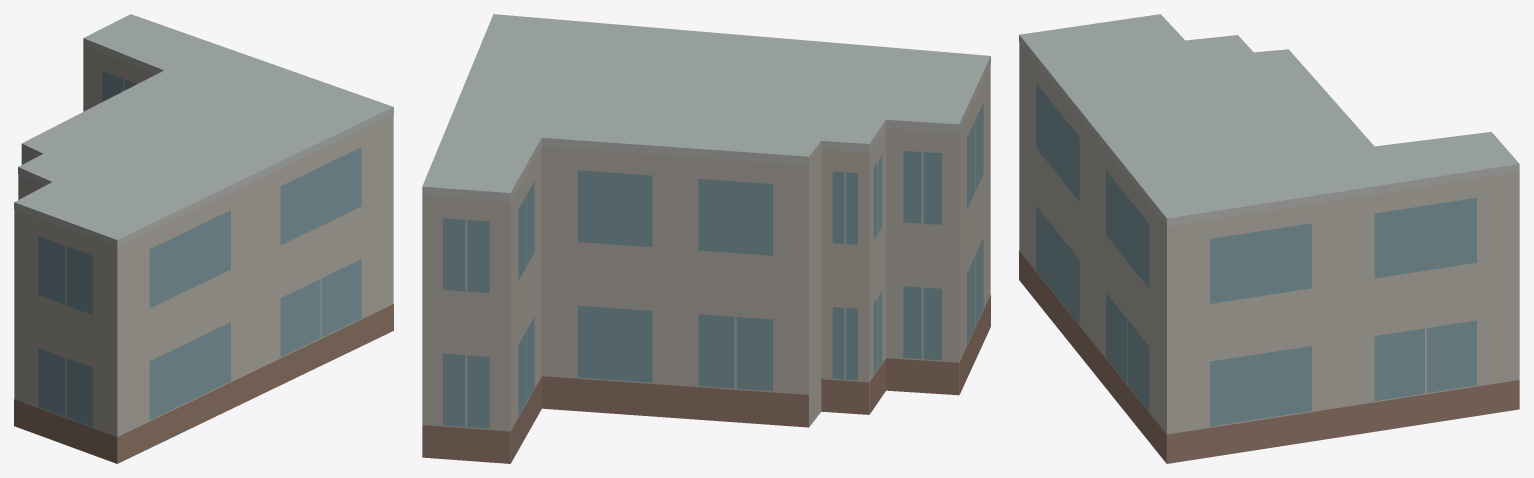
The model's file is survey-upis-33002088.glb.
3 views of the same model, side by side, from view 1: azimuth 30°, elevation 25°; view 2: azimuth 150°, elevation 25°; view 3: azimuth 270°, elevation 25° (orthographic). The views are drawn at different scales.
Parts seen in each view (by area): view 1: survey-upis-33002088.tmp; view 2: survey-upis-33002088.tmp; view 3: survey-upis-33002088.tmp.
Part boxes in pixels (box(x1,y1,x2,y2)): survey-upis-33002088.tmp: box(14, 14, 393, 463); survey-upis-33002088.tmp: box(422, 14, 990, 463); survey-upis-33002088.tmp: box(1019, 14, 1519, 463).
Size of the model in its own units: 13.77 by 7.7 by 14.24.
